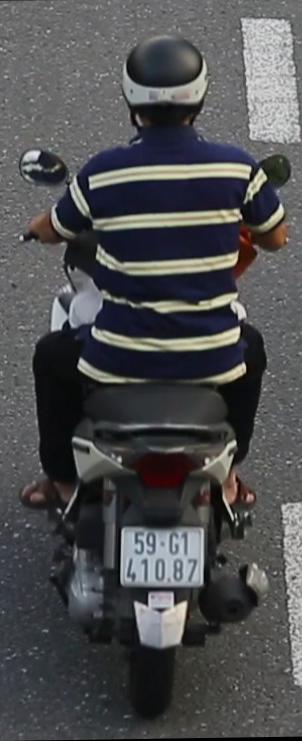LP: (117, 519, 208, 594)
helmet: (121, 31, 212, 136)
